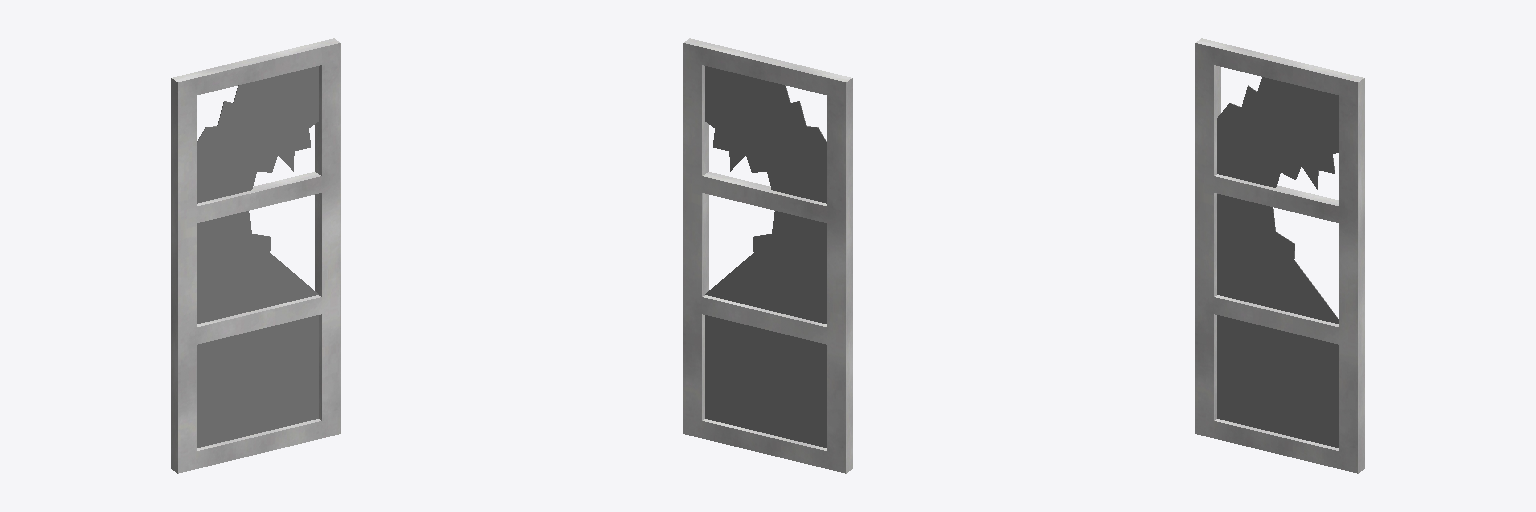
The picture shows the model from 3 angles: view 1: azimuth 30°, elevation 25°; view 2: azimuth 150°, elevation 25°; view 3: azimuth 330°, elevation 25°; orthographic projection.
Parts seen in each view (by area): view 1: Window_Glass, Window_01; view 2: Window_Glass, Window_01; view 3: Window_Glass, Window_01.
Part boxes in pixels (x1,y1,x2,y2): Window_Glass: (197, 66, 318, 447); Window_01: (171, 38, 340, 473); Window_Glass: (705, 66, 826, 447); Window_01: (683, 38, 852, 473); Window_Glass: (1217, 77, 1338, 447); Window_01: (1195, 38, 1364, 473).
Size of the model in its own units: 53.46 by 123 by 3.56.
2 materials, 1 textured.